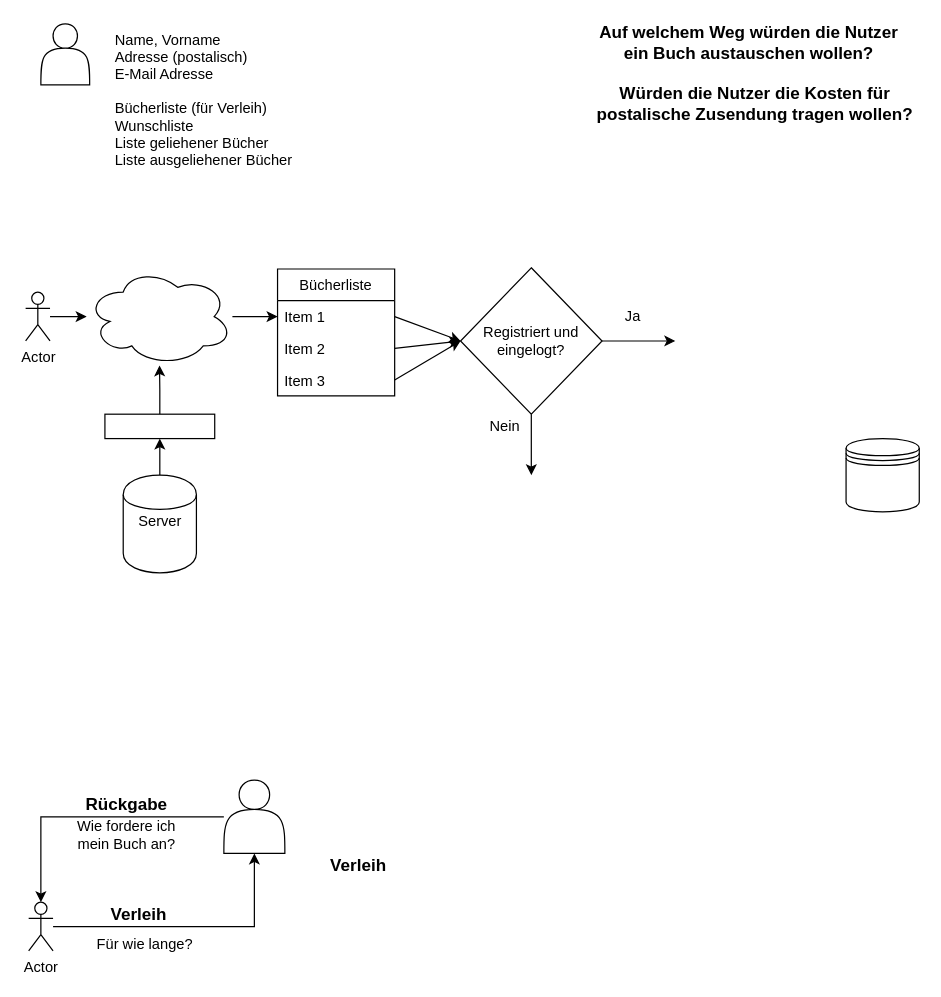
This 941x997 diagram has some shape labels left out. Each missing label, with the centre of its shape:
API: pixel 159 426
bookshare online besuchen: pixel 158 316
